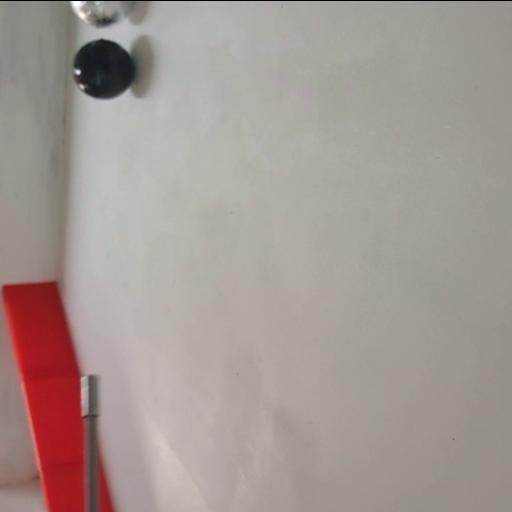alive: (70, 1, 132, 28)
dead: (70, 36, 136, 102)
